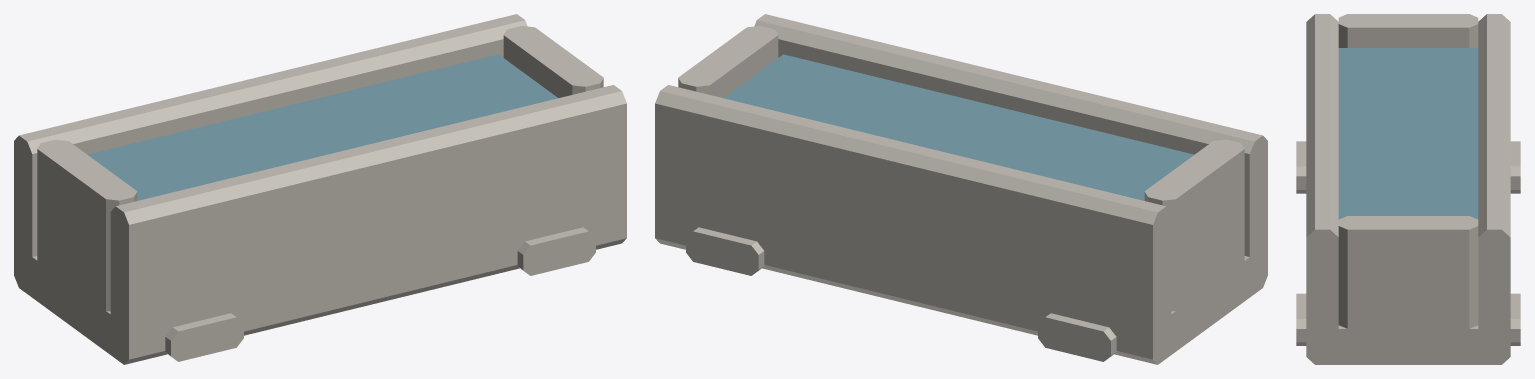
The model's file is trough.glb.
3 views of the same model, side by side, from view 1: azimuth 30°, elevation 25°; view 2: azimuth 150°, elevation 25°; view 3: azimuth 270°, elevation 25° (orthographic). The views are drawn at different scales.
Visible parts, largest first — view 1: trough; view 2: trough; view 3: trough.
Part boxes in pixels (left/top/right/bottom): trough: left=14, top=14, right=626, bottom=364; trough: left=655, top=14, right=1267, bottom=364; trough: left=1296, top=14, right=1520, bottom=364.
Size of the model in its own units: 2.05 by 0.6 by 0.9.
